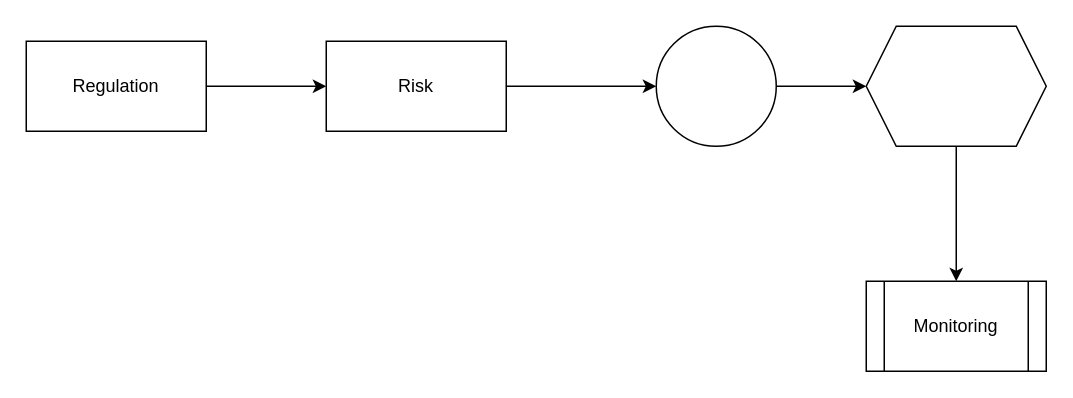
Some shapes in this 1073 by 398 pixel diagram are drawn without their labels. Each missing label, with the centre of its shape:
Activity: point (955, 85)
Control: point (715, 85)
